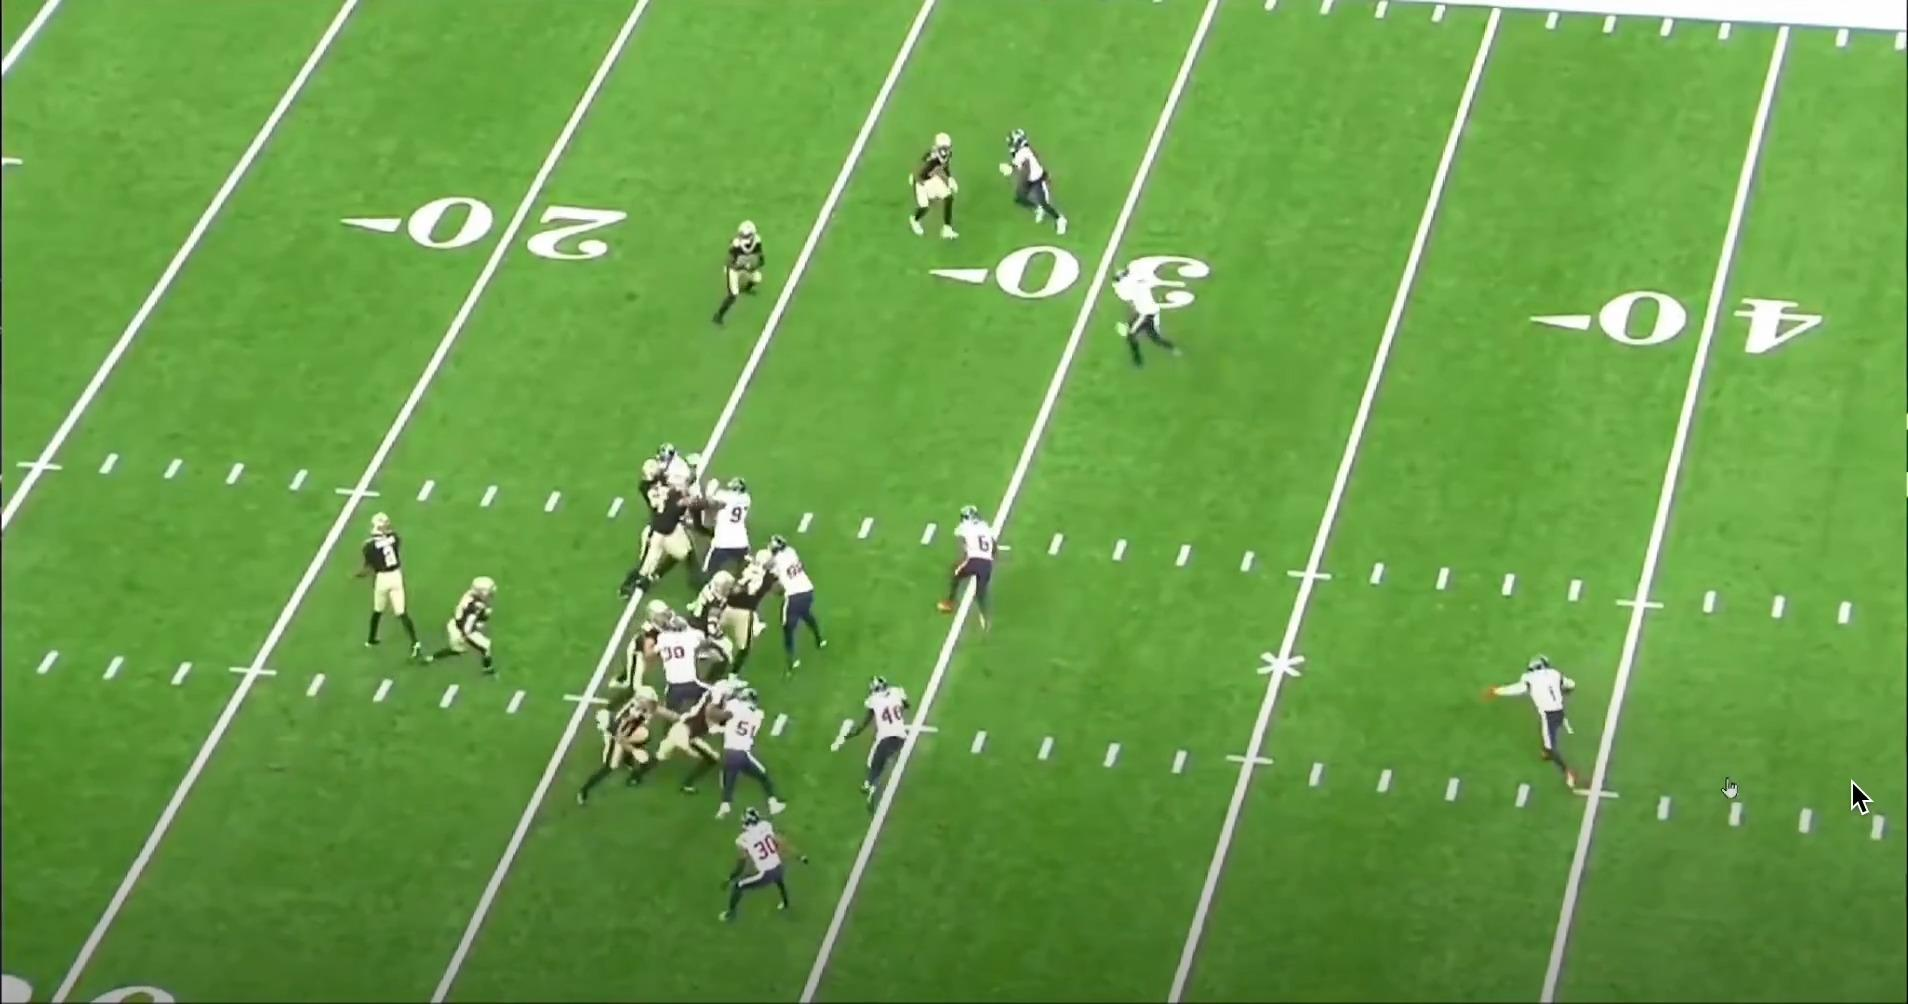player: (1481, 650, 1585, 791), (628, 676, 739, 797), (616, 470, 718, 598), (835, 677, 929, 814), (709, 680, 796, 824), (354, 504, 428, 658), (922, 496, 1007, 630), (580, 687, 667, 811), (712, 807, 798, 927), (768, 532, 838, 665), (427, 573, 504, 688), (632, 456, 697, 592), (1001, 129, 1075, 244), (652, 613, 717, 741), (1111, 267, 1182, 373), (708, 215, 771, 332), (903, 128, 963, 247), (722, 553, 777, 669), (608, 603, 675, 695), (703, 476, 761, 578), (637, 441, 710, 520), (687, 564, 756, 620)
